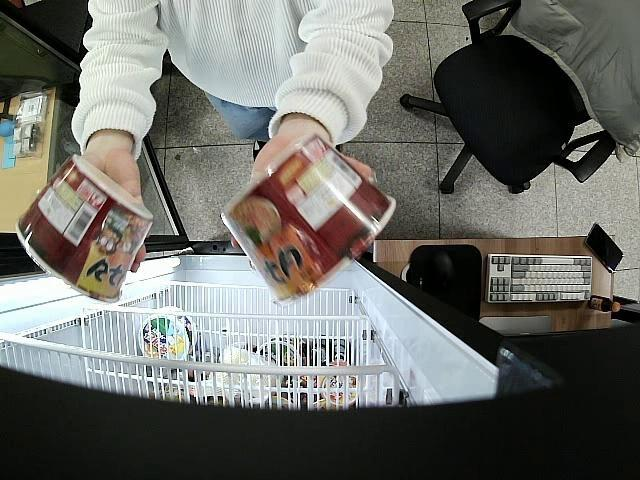05_nuguri_L: (221, 132, 396, 302), (17, 154, 152, 304)
